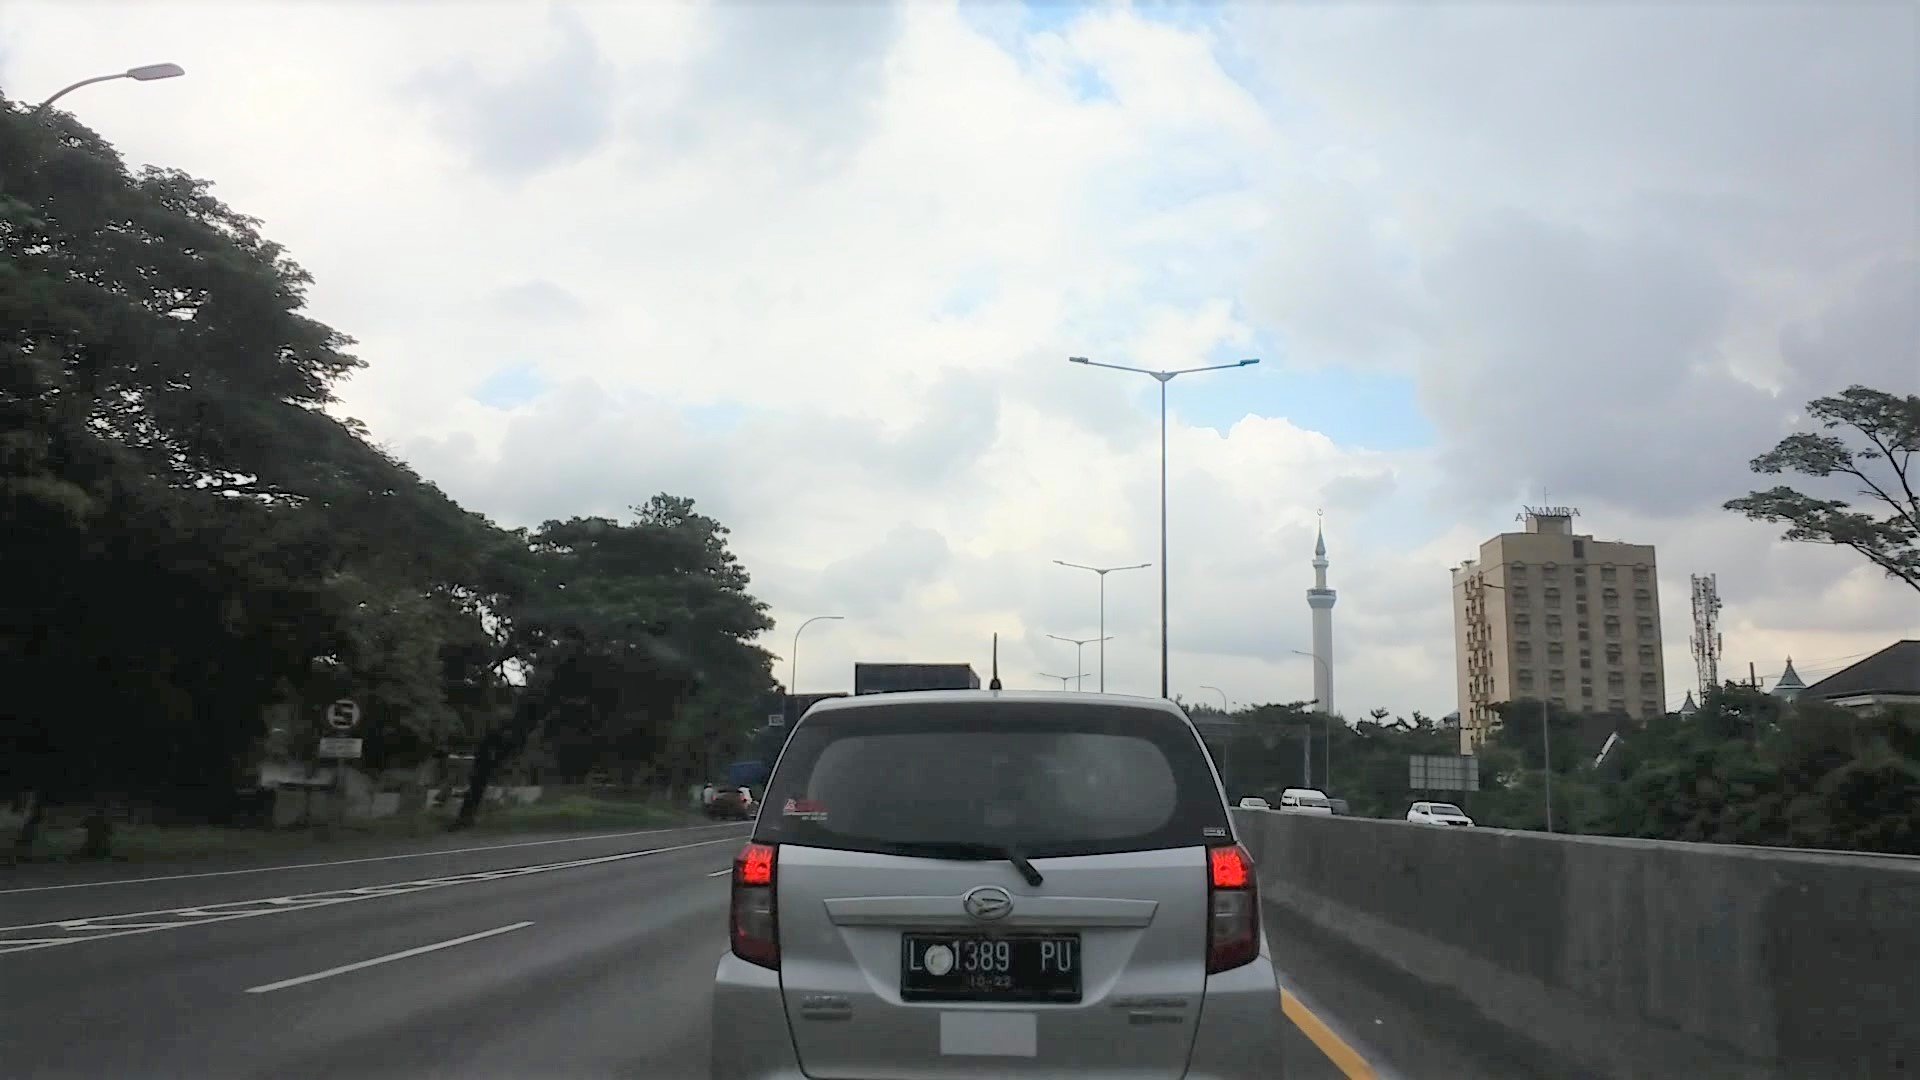plate_positive: (899, 930, 1083, 1005)
